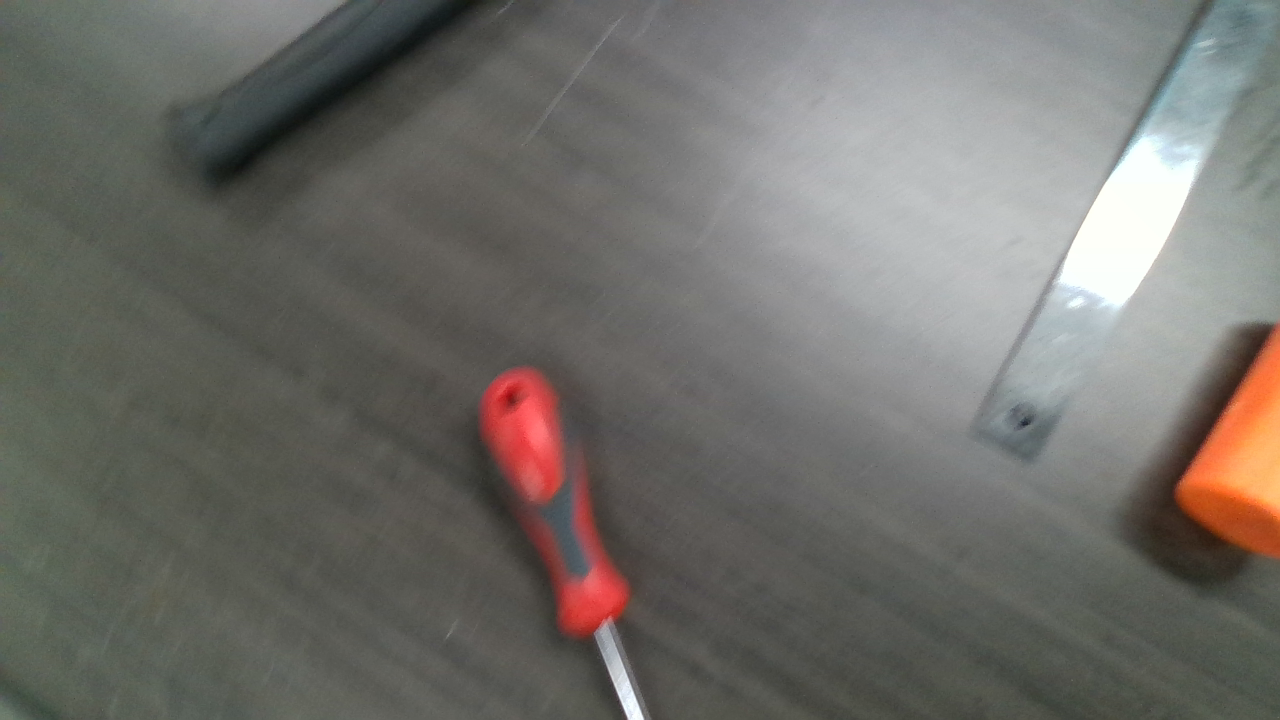Orange Hammer: (1174, 302, 1280, 562)
